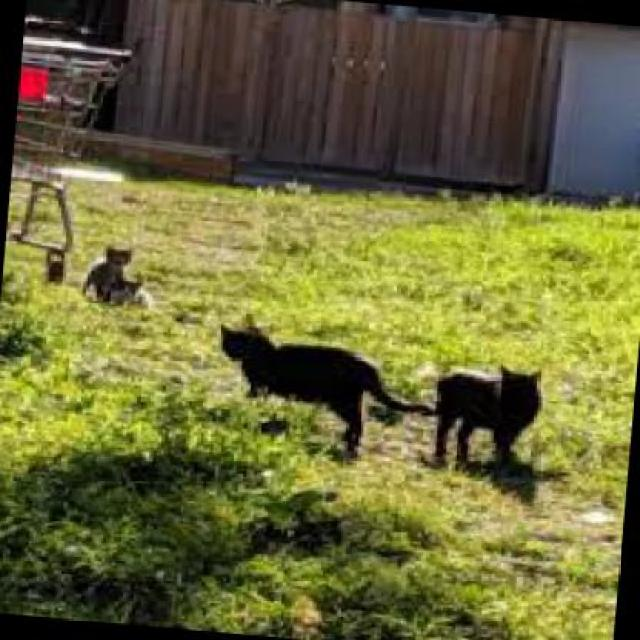animals: (200, 298, 412, 464), (412, 352, 574, 486), (74, 236, 168, 322)
